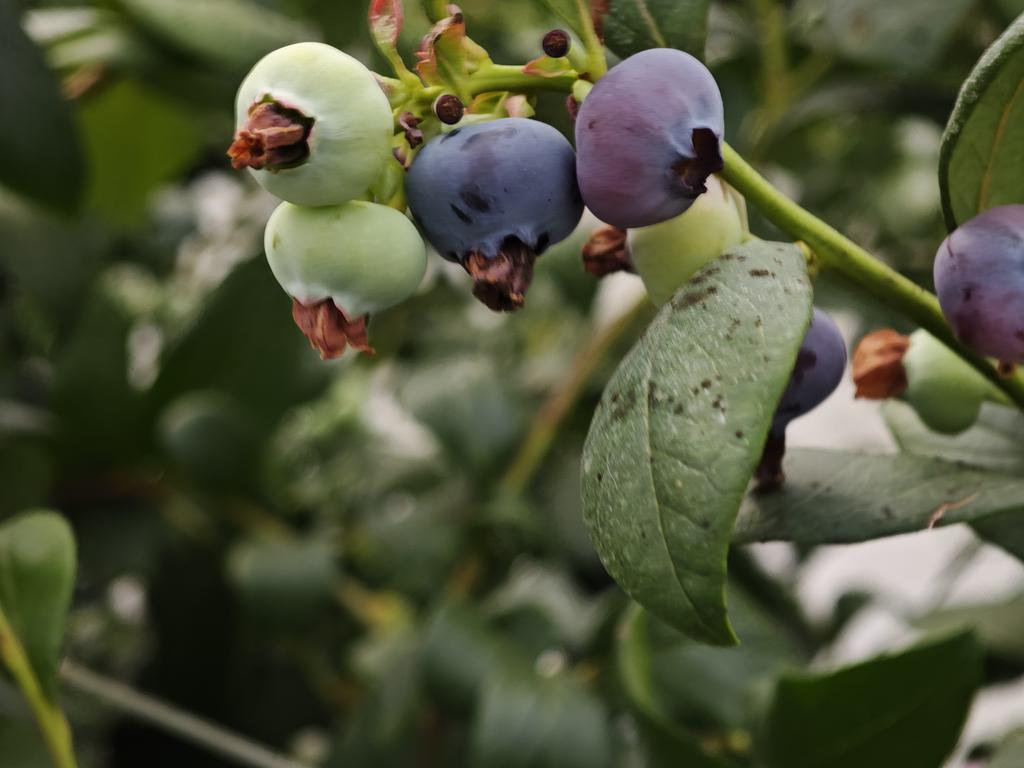RipeBlueBerry: (406, 114, 581, 266)
Semi-RipeBlueBerry: (576, 45, 726, 228)
UnripeBlueBerry: (235, 38, 395, 211), (262, 196, 427, 325)
